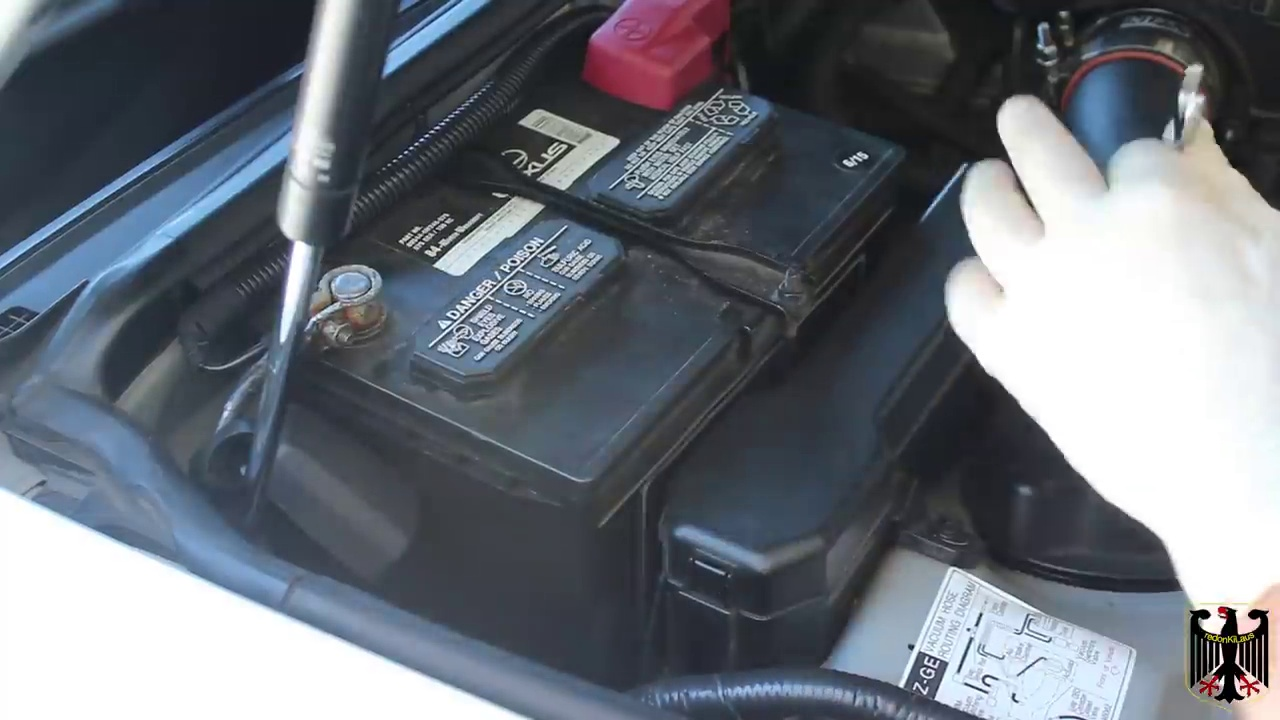battery: (280, 26, 908, 502)
neg_connected: (243, 240, 443, 391)
pos_connected: (562, 1, 745, 104)
